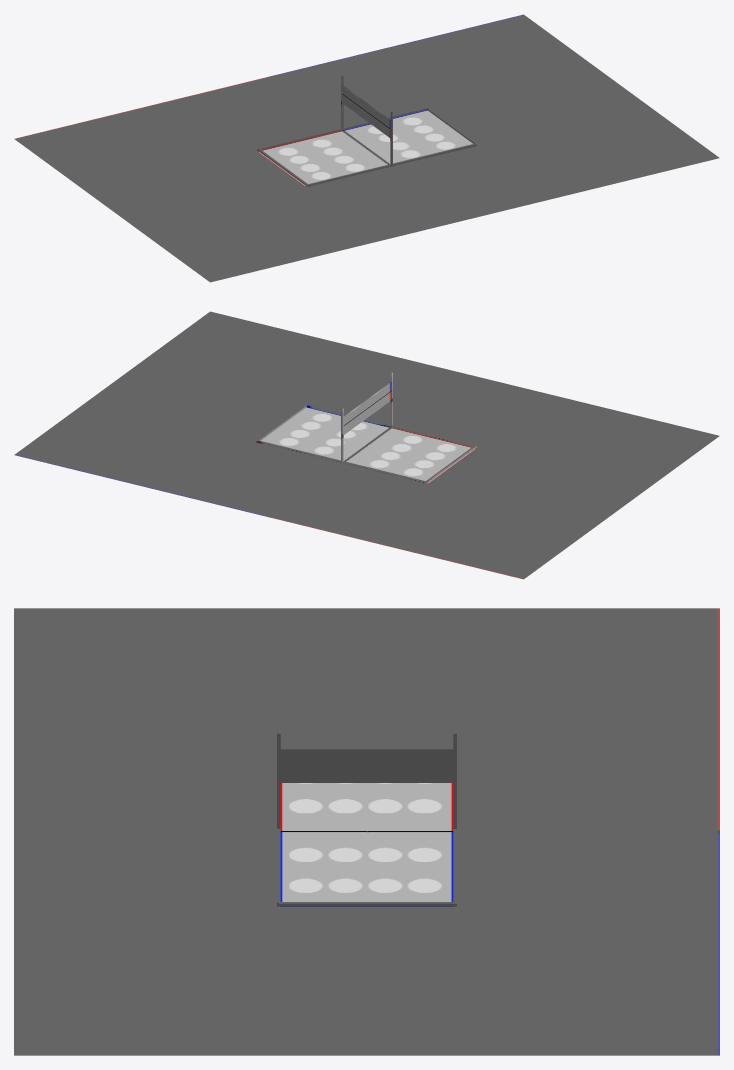
Rendered from court.glb.
The picture shows the model from 3 angles, top to bottom: view 1: azimuth 30°, elevation 25°; view 2: azimuth 150°, elevation 25°; view 3: azimuth 270°, elevation 25°; orthographic projection. The views are drawn at different scales.
Visible parts, largest first — view 1: Plane; view 2: Plane; view 3: Plane.
Boxes of the visible parts, bbox=[...] form: Plane: bbox=[14, 14, 719, 282]; Plane: bbox=[14, 311, 719, 579]; Plane: bbox=[14, 608, 719, 1055].
Bounding box in the file's own units: 60 × 7.8 × 40.
Materials: 1 (1 with a texture image).
